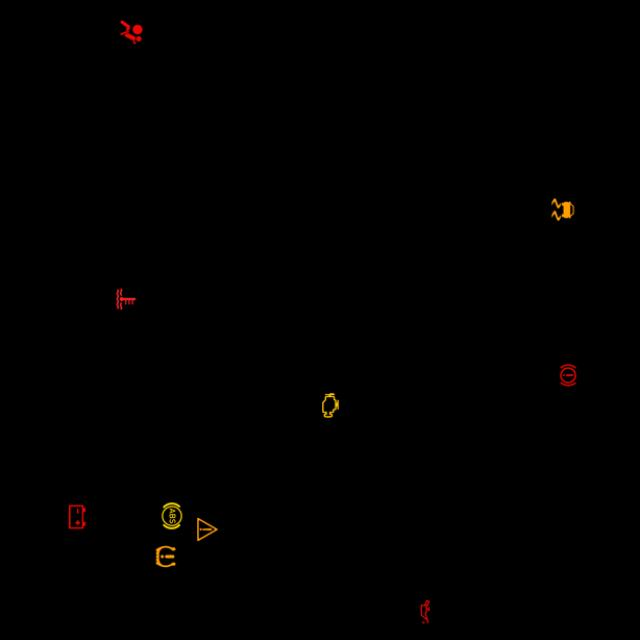Anti Lock Braking System: (158, 500, 186, 530)
Braking System Issue: (554, 359, 582, 388)
Charging System Issue: (62, 502, 92, 530)
Check Engine: (316, 390, 345, 419)
Electronic Stability Problem -ESP-: (548, 194, 578, 223)
Engine Overheating Warning Light: (112, 284, 140, 312)
Low Engine Oil Warning Light: (411, 596, 440, 626)
Low Tire Pressure Warning Light: (151, 541, 180, 570)
Master warning light: (193, 514, 222, 543)
SRS-Airbag: (117, 17, 146, 46)
